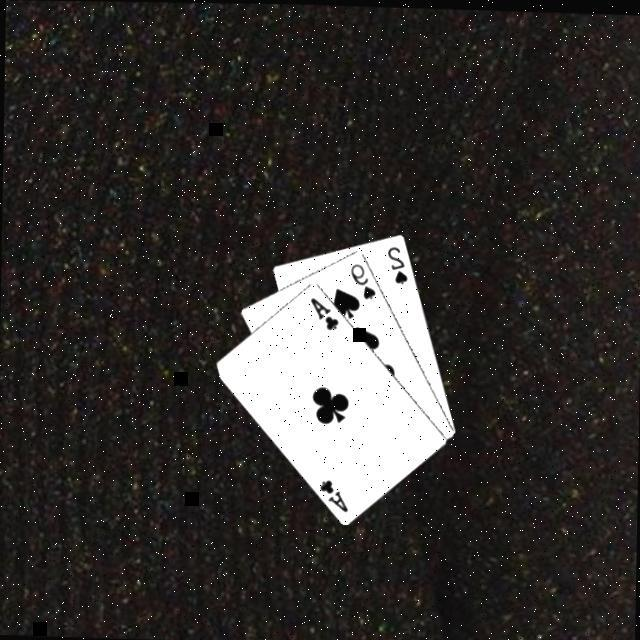2S: (385, 240, 412, 284)
9S: (349, 257, 381, 300)
AC: (307, 292, 343, 331), (317, 473, 353, 512)
